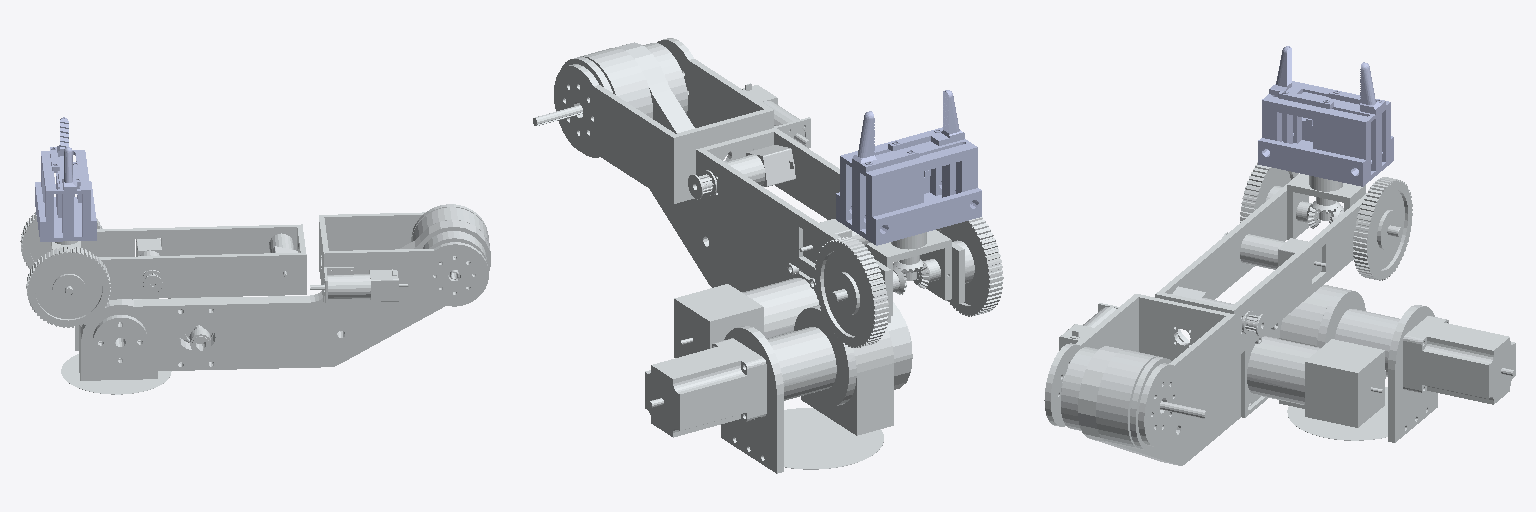
robot.urdf — sw_exported_urdf:
<?xml version="1.0" encoding="utf-8" ?>
<!-- This URDF was automatically created by SolidWorks to URDF Exporter! Originally created by [author] ([email redacted]) 
     Commit Version: 1.6.0-4-g7f85cfe  Build Version: 1.6.7995.38578
     For more information, please see http://wiki.ros.org/sw_urdf_exporter -->
<robot name="sw_exported_urdf">
    <link name="world" />
    <joint name="base_joint" type="fixed">
        <parent link="world" />
        <child link="base_link" />
        <origin rpy="0 0 0" xyz="0.0 0.0 0.15" />
    </joint>
    <link name="base_link">
        <inertial>
            <origin xyz="-0.039622 -0.00022782 -0.00096737" rpy="0 0 0" />
            <mass value="2.8978" />
            <inertia ixx="0.0049823" ixy="-7.0622E-06" ixz="-4.9134E-08" iyy="0.010236" iyz="3.4527E-07" izz="0.014304" />
        </inertial>
        <visual>
            <origin xyz="0 0 0" rpy="0 0 0" />
            <geometry>
                <mesh filename="package://sw_exported_urdf/meshes/base_link.STL" />
            </geometry>
            <material name="">
                <color rgba="0.89804 0.91765 0.92941 1" />
            </material>
        </visual>
        <collision>
            <origin xyz="0 0 0" rpy="0 0 0" />
            <geometry>
                <mesh filename="package://sw_exported_urdf/meshes/base_link.STL" />
            </geometry>
        </collision>
    </link>
    <link name="link_1">
        <inertial>
            <origin xyz="1.381E-10 0.067643 0.029435" rpy="0 0 0" />
            <mass value="1.9055" />
            <inertia ixx="0.001681" ixy="1.2795E-11" ixz="-4.2285E-13" iyy="0.0014854" iyz="-2.3027E-05" izz="0.0020095" />
        </inertial>
        <visual>
            <origin xyz="0 0 0" rpy="0 0 0" />
            <geometry>
                <mesh filename="package://sw_exported_urdf/meshes/link_1.STL" />
            </geometry>
            <material name="">
                <color rgba="0.89804 0.91765 0.92941 1" />
            </material>
        </visual>
        <collision>
            <origin xyz="0 0 0" rpy="0 0 0" />
            <geometry>
                <mesh filename="package://sw_exported_urdf/meshes/link_1.STL" />
            </geometry>
        </collision>
    </link>
    <joint name="joint_1" type="revolute">
        <origin xyz="0 0 0.0076" rpy="1.5708 0 -1.4648" />
        <parent link="base_link" />
        <child link="link_1" />
        <axis xyz="0 1 0" />
        <limit lower="2.55" upper="5.7280" effort="300" velocity="3" />
    </joint>
    <link name="link_2">
        <inertial>
            <origin xyz="-0.2066 -0.045057 -0.03072" rpy="0 0 0" />
            <mass value="3.888" />
            <inertia ixx="0.0047604" ixy="-7.425E-07" ixz="-0.0055748" iyy="0.033676" iyz="1.5382E-08" izz="0.031498" />
        </inertial>
        <visual>
            <origin xyz="0 0 0" rpy="0 0 0" />
            <geometry>
                <mesh filename="package://sw_exported_urdf/meshes/link_2.STL" />
            </geometry>
            <material name="">
                <color rgba="0.89804 0.91765 0.92941 1" />
            </material>
        </visual>
        <collision>
            <origin xyz="0 0 0" rpy="0 0 0" />
            <geometry>
                <mesh filename="package://sw_exported_urdf/meshes/link_2.STL" />
            </geometry>
        </collision>
    </link>
    <joint name="joint_2" type="revolute">
        <origin xyz="0 0.0754940000000001 0" rpy="1.5707963267949 0 0" />
        <parent link="link_1" />
        <child link="link_2" />
        <axis xyz="0 -1 0" />
        <limit lower="-0.35" upper="3.5340" effort="200" velocity="3" />
    </joint>
    <link name="link_3">
        <inertial>
            <origin xyz="-0.069243 0.082411 9.8376E-06" rpy="0 0 0" />
            <mass value="0.66718" />
            <inertia ixx="0.0014604" ixy="6.1725E-07" ixz="-2.9147E-10" iyy="0.00027698" iyz="1.0784E-07" izz="0.0013479" />
        </inertial>
        <visual>
            <origin xyz="0 0 0" rpy="0 0 0" />
            <geometry>
                <mesh filename="package://sw_exported_urdf/meshes/link_3.STL" />
            </geometry>
            <material name="">
                <color rgba="0.89804 0.91765 0.92941 1" />
            </material>
        </visual>
        <collision>
            <origin xyz="0 0 0" rpy="0 0 0" />
            <geometry>
                <mesh filename="package://sw_exported_urdf/meshes/link_3.STL" />
            </geometry>
        </collision>
    </link>
    <joint name="joint_3" type="revolute">
        <origin xyz="-0.382245567884187 -0.0102985715739413 -0.0885615943563487" rpy="-3.14159265358979 0 1.5707963267949" />
        <parent link="link_2" />
        <child link="link_3" />
        <axis xyz="1 0 0" />
        <limit lower="-0.0488" upper="5.2280" effort="200" velocity="3" />
    </joint>
    <link name="link_4">
        <inertial>
            <origin xyz="0.00037512 -0.19699 0.00039297" rpy="0 0 0" />
            <mass value="1.3208" />
            <inertia ixx="0.0044176" ixy="1.8659E-07" ixz="1.9877E-08" iyy="0.00056556" iyz="1.9996E-06" izz="0.0042001" />
        </inertial>
        <visual>
            <origin xyz="0 0 0" rpy="0 0 0" />
            <geometry>
                <mesh filename="package://sw_exported_urdf/meshes/link_4.STL" />
            </geometry>
            <material name="">
                <color rgba="0.89804 0.91765 0.92941 1" />
            </material>
        </visual>
        <collision>
            <origin xyz="0 0 0" rpy="0 0 0" />
            <geometry>
                <mesh filename="package://sw_exported_urdf/meshes/link_4.STL" />
            </geometry>
        </collision>
    </link>
    <joint name="joint_4" type="revolute">
        <origin xyz="-0.0508264284890597 0.153840499266872 0" rpy="0 0 -3.14159265358979" />
        <parent link="link_3" />
        <child link="link_4" />
        <axis xyz="0 1 0" />
        <limit lower="-3.142" upper="3.142" effort="200" velocity="3" />
    </joint>
    <link name="link_5">
        <inertial>
            <origin xyz="4.7404E-08 -0.01885 3.481E-08" rpy="0 0 0" />
            <mass value="0.18281" />
            <inertia ixx="3.1828E-05" ixy="-8.3866E-10" ixz="4.4701E-11" iyy="3.1531E-05" iyz="6.7764E-12" izz="3.7152E-05" />
        </inertial>
        <visual>
            <origin xyz="0 0 0" rpy="0 0 0" />
            <geometry>
                <mesh filename="package://sw_exported_urdf/meshes/link_5.STL" />
            </geometry>
            <material name="">
                <color rgba="0.89804 0.91765 0.92941 1" />
            </material>
        </visual>
        <collision>
            <origin xyz="0 0 0" rpy="0 0 0" />
            <geometry>
                <mesh filename="package://sw_exported_urdf/meshes/link_5.STL" />
            </geometry>
        </collision>
    </link>
    <joint name="joint_5" type="revolute">
        <origin xyz="0 -0.290023127720036 0" rpy="-1.5707963267949 0 0" />
        <parent link="link_4" />
        <child link="link_5" />
        <axis xyz="-1 0 0" />
        <limit lower="-3.764" upper="0.6419" effort="200" velocity="3" />
    </joint>
    <link name="link_6">
        <inertial>
            <origin xyz="-0.0018507 6.7923E-10 -0.028053" rpy="0 0 0" />
            <mass value="0.17722" />
            <inertia ixx="9.285E-05" ixy="-9.694E-14" ixz="3.3777E-07" iyy="0.00024115" iyz="1.6543E-11" izz="0.00026751" />
        </inertial>
        <visual>
            <origin xyz="0 0 0" rpy="0 0 0" />
            <geometry>
                <mesh filename="package://sw_exported_urdf/meshes/link_6.STL" />
            </geometry>
            <material name="">
                <color rgba="0.79216 0.81961 0.93333 1" />
            </material>
        </visual>
        <collision>
            <origin xyz="0 0 0" rpy="0 0 0" />
            <geometry>
                <mesh filename="package://sw_exported_urdf/meshes/link_6.STL" />
            </geometry>
        </collision>
    </link>
    <joint name="joint_6" type="revolute">
        <origin xyz="0 -0.05601 0" rpy="-1.5708 0 0" />
        <parent link="link_5" />
        <child link="link_6" />
        <axis xyz="0 0 -1" />
        <limit lower="-3.142" upper="3.142" effort="200" velocity="3" />
    </joint>
    <link name="link_gripper_1">
        <inertial>
            <origin xyz="0.038885 0.012049 0.01255" rpy="0 0 0" />
            <mass value="0.0075809" />
            <inertia ixx="1.5936E-06" ixy="3.3522E-07" ixz="-3.4613E-07" iyy="2.5908E-06" iyz="3.1502E-07" izz="1.5705E-06" />
        </inertial>
        <visual>
            <origin xyz="0 0 0" rpy="0 0 0" />
            <geometry>
                <mesh filename="package://sw_exported_urdf/meshes/gripper_1.STL" />
            </geometry>
            <material name="">
                <color rgba="0.79216 0.81961 0.93333 1" />
            </material>
        </visual>
        <collision>
            <origin xyz="0 0 0" rpy="0 0 0" />
            <geometry>
                <mesh filename="package://sw_exported_urdf/meshes/gripper_1.STL" />
            </geometry>
        </collision>
    </link>
    <joint name="joint_gripper_1" type="prismatic">
        <origin xyz="0.00037333 -0.008425 -0.064" rpy="3.1416 0 3.1416" />
        <parent link="link_6" />
        <child link="link_gripper_1" />
        <axis xyz="-1 0 0" />
        <limit lower="0" upper="0.0381" effort="100" velocity="3" />
    </joint>
    <link name="link_gripper_2">
        <inertial>
            <origin xyz="0.047513 0.011323 0.011862" rpy="0 0 0" />
            <mass value="0.0081376" />
            <inertia ixx="1.6179E-06" ixy="4.6017E-07" ixz="-5.8156E-07" iyy="3.3658E-06" iyz="2.5926E-07" izz="2.2625E-06" />
        </inertial>
        <visual>
            <origin xyz="0 0 0" rpy="0 0 0" />
            <geometry>
                <mesh filename="package://sw_exported_urdf/meshes/gripper_2.STL" />
            </geometry>
            <material name="">
                <color rgba="0.79216 0.81961 0.93333 1" />
            </material>
        </visual>
        <collision>
            <origin xyz="0 0 0" rpy="0 0 0" />
            <geometry>
                <mesh filename="package://sw_exported_urdf/meshes/gripper_2.STL" />
            </geometry>
        </collision>
    </link>
    <joint name="joint_gripper_2" type="prismatic">
        <origin xyz="-0.012 0.007575 -0.064" rpy="3.1416 0 0" />
        <parent link="link_6" />
        <child link="link_gripper_2" />
        <axis xyz="1 0 0" />
        <limit lower="-0.0381" upper="0" effort="100" velocity="3" />
    </joint>
    <transmission name="link_1_trans">
        <type>transmission_interface/SimpleTransmission</type>
        <joint name="joint_1">
            <hardwareInterface>hardware_interface/PositionJointInterface</hardwareInterface>
        </joint>
        <actuator name="link_1_motor">
            <hardwareInterface>hardware_interface/PositionJointInterface</hardwareInterface>
            <mechanicalReduction>1</mechanicalReduction>
        </actuator>
    </transmission>
    <transmission name="link_2_trans">
        <type>transmission_interface/SimpleTransmission</type>
        <joint name="joint_2">
            <hardwareInterface>hardware_interface/PositionJointInterface</hardwareInterface>
        </joint>
        <actuator name="link_2_motor">
            <hardwareInterface>hardware_interface/PositionJointInterface</hardwareInterface>
            <mechanicalReduction>1</mechanicalReduction>
        </actuator>
    </transmission>
    <transmission name="link_3_trans">
        <type>transmission_interface/SimpleTransmission</type>
        <joint name="joint_3">
            <hardwareInterface>hardware_interface/PositionJointInterface</hardwareInterface>
        </joint>
        <actuator name="link_3_motor">
            <hardwareInterface>hardware_interface/PositionJointInterface</hardwareInterface>
            <mechanicalReduction>1</mechanicalReduction>
        </actuator>
    </transmission>
    <transmission name="link_4_trans">
        <type>transmission_interface/SimpleTransmission</type>
        <joint name="joint_4">
            <hardwareInterface>hardware_interface/PositionJointInterface</hardwareInterface>
        </joint>
        <actuator name="link_4_motor">
            <hardwareInterface>hardware_interface/PositionJointInterface</hardwareInterface>
            <mechanicalReduction>1</mechanicalReduction>
        </actuator>
    </transmission>
    <transmission name="link_5_trans">
        <type>transmission_interface/SimpleTransmission</type>
        <joint name="joint_5">
            <hardwareInterface>hardware_interface/PositionJointInterface</hardwareInterface>
        </joint>
        <actuator name="link_5_motor">
            <hardwareInterface>hardware_interface/PositionJointInterface</hardwareInterface>
            <mechanicalReduction>1</mechanicalReduction>
        </actuator>
    </transmission>
    <transmission name="link_6_trans">
        <type>transmission_interface/SimpleTransmission</type>
        <joint name="joint_6">
            <hardwareInterface>hardware_interface/PositionJointInterface</hardwareInterface>
        </joint>
        <actuator name="link_6_motor">
            <hardwareInterface>hardware_interface/PositionJointInterface</hardwareInterface>
            <mechanicalReduction>1</mechanicalReduction>
        </actuator>
    </transmission>
    <transmission name="link_gripper_1_trans">
        <type>transmission_interface/SimpleTransmission</type>
        <joint name="joint_gripper_1">
            <hardwareInterface>hardware_interface/PositionJointInterface</hardwareInterface>
        </joint>
        <actuator name="link_gripper_1_motor">
            <hardwareInterface>hardware_interface/PositionJointInterface</hardwareInterface>
            <mechanicalReduction>1</mechanicalReduction>
        </actuator>
    </transmission>
    <transmission name="link_gripper_2_trans">
        <type>transmission_interface/SimpleTransmission</type>
        <joint name="joint_gripper_2">
            <hardwareInterface>hardware_interface/PositionJointInterface</hardwareInterface>
        </joint>
        <actuator name="link_gripper_2_motor">
            <hardwareInterface>hardware_interface/PositionJointInterface</hardwareInterface>
            <mechanicalReduction>1</mechanicalReduction>
        </actuator>
    </transmission>
    <gazebo>
        <plugin name="control" filename="libgazebo_ros_control.so">
            <robotNamespace>/</robotNamespace>
        </plugin>
        <plugin name="gazebo_ros_control">
            <robotNamespace>/</robotNamespace>
        </plugin>
    </gazebo>
    <gazebo reference="link_1">
        <selfCollide>true</selfCollide>
    </gazebo>
    <gazebo reference="link_2">
        <selfCollide>true</selfCollide>
    </gazebo>
    <gazebo reference="link_3">
        <selfCollide>true</selfCollide>
    </gazebo>
    <gazebo reference="link_4">
        <selfCollide>true</selfCollide>
    </gazebo>
    <gazebo reference="link_5">
        <selfCollide>true</selfCollide>
    </gazebo>
    <gazebo reference="link_6">
        <selfCollide>true</selfCollide>
    </gazebo>
    <gazebo reference="link_gripper_1">
        <selfCollide>true</selfCollide>
    </gazebo>
    <gazebo reference="link_gripper_2">
        <selfCollide>true</selfCollide>
    </gazebo>
</robot>

--- Facts derived from the render (not from the file) ---
Views: 3 orthographic renders of the robot side by side, from view 1: azimuth 30°, elevation 25°; view 2: azimuth 150°, elevation 25°; view 3: azimuth 270°, elevation 25°.
Model sw_exported_urdf with 10 links and 9 joints (6 revolute, 2 prismatic, 1 fixed), rooted at world, posed joints at zero except 1 at the middle of their limits (joint_1 = 4.14).
Links seen in each view (by area): view 1: link_2, link_4, link_3, link_6, link_1, link_gripper_2; view 2: link_1, link_4, link_2, link_3, link_6, link_5, link_gripper_2, link_gripper_1; view 3: link_2, link_4, link_1, link_3, link_6, link_5, link_gripper_2, link_gripper_1.
Link boxes in pixels (x1,y1,x2,y2): link_2: [81, 204, 490, 374]; link_4: [20, 212, 306, 327]; link_3: [310, 212, 488, 306]; link_6: [35, 150, 96, 241]; link_1: [61, 299, 171, 394]; link_gripper_2: [62, 147, 80, 190]; link_1: [645, 305, 893, 473]; link_4: [688, 128, 1003, 347]; link_2: [533, 42, 912, 389]; link_3: [554, 38, 810, 203]; link_6: [836, 127, 981, 245]; link_5: [866, 230, 951, 315]; link_gripper_2: [888, 90, 964, 150]; link_gripper_1: [852, 111, 918, 171]; link_2: [1061, 319, 1385, 465]; link_4: [1155, 162, 1412, 358]; link_1: [1279, 285, 1515, 442]; link_3: [1044, 294, 1234, 446]; link_6: [1258, 81, 1393, 186]; link_5: [1287, 174, 1365, 239]; link_gripper_2: [1269, 46, 1333, 108]; link_gripper_1: [1329, 62, 1385, 114].
Bounding box of the posed robot: 0.5298 × 0.4422 × 0.3321 m (x, y, z).
Meshes: 9 distinct files referenced, 8 mesh visuals loaded (8 binary STL); not drawn: 1 (reference not matched to a file when rendering).